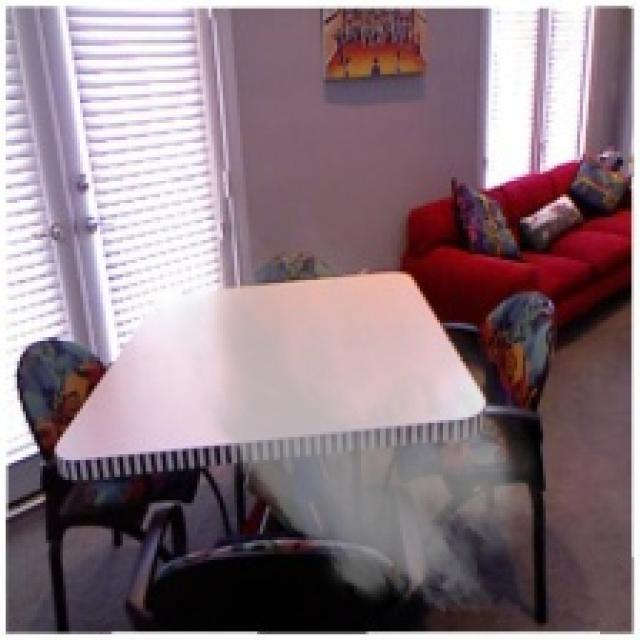Smoke: (165, 202, 558, 628)
